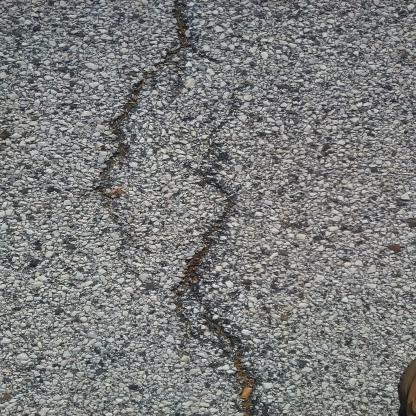Cracks: (157, 165, 278, 415), (93, 0, 215, 195)
